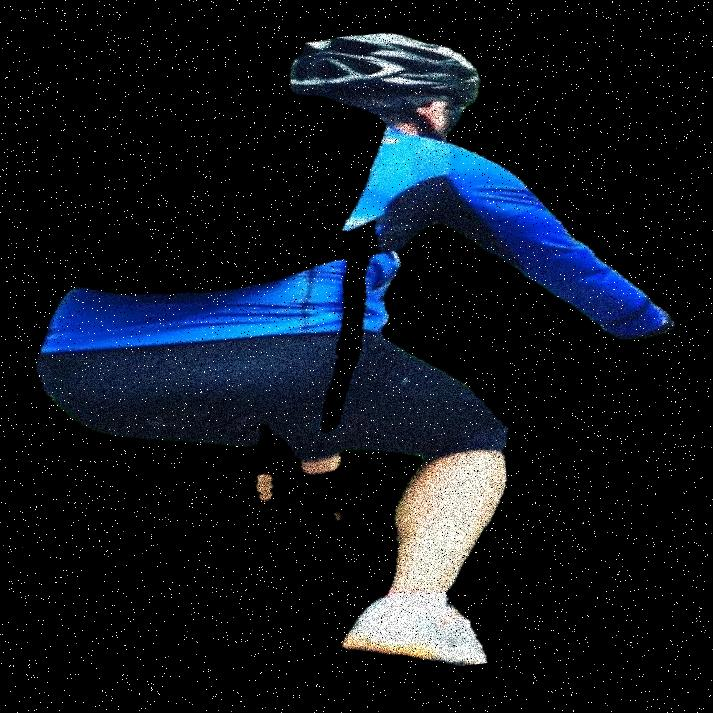Pessoa: (394, 0, 486, 712)
